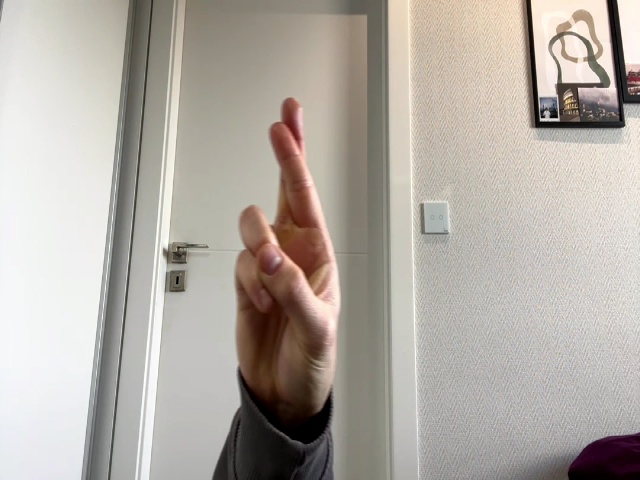R: (236, 98, 341, 415)
